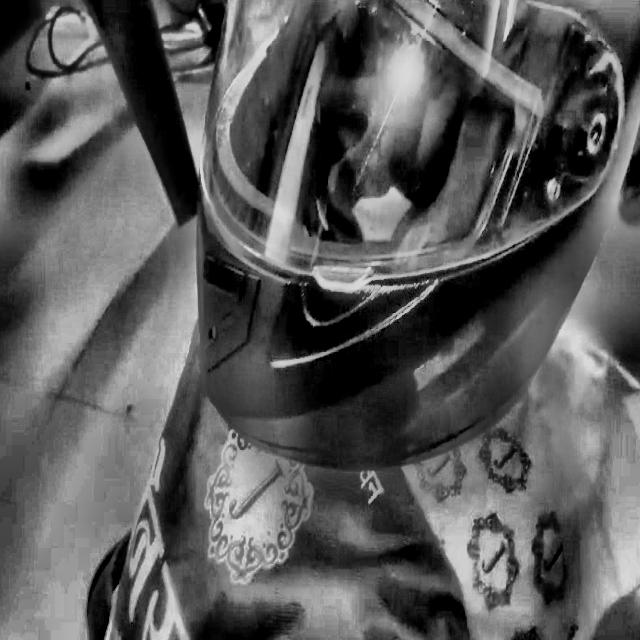Helmet: (193, 0, 640, 472)
